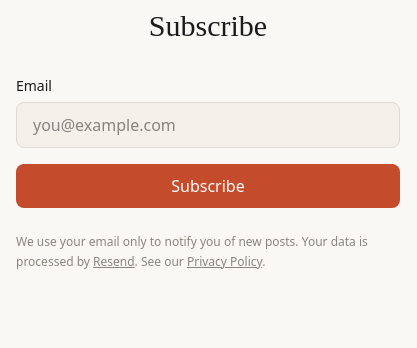
Test case: SubscribePage › shows a rate-limit message on 429
Type "r@x.com" into the field labelled "Email".
click(208, 125); type("r@x.com")  # box [16,102,400,148]
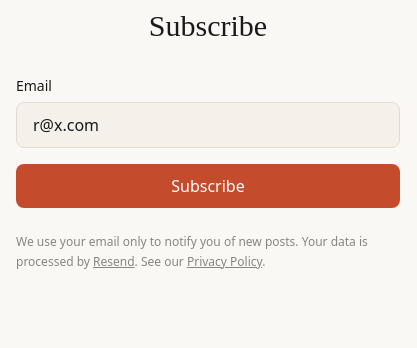
Click the button "Subscribe".
click(208, 186)  # box [16,164,400,208]
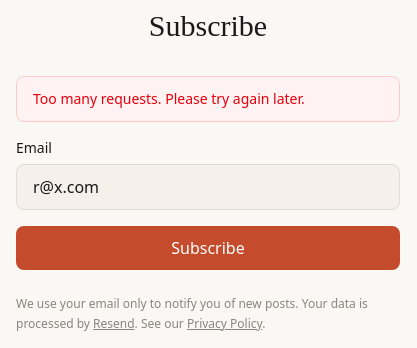
Now the text "Too many requests. Please try again later." is shown, box [16,76,400,122]
